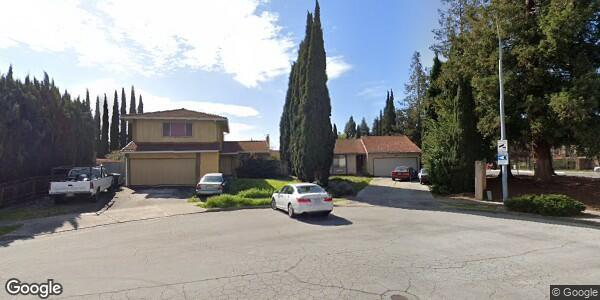Steel_Pole: (494, 1, 510, 205)
